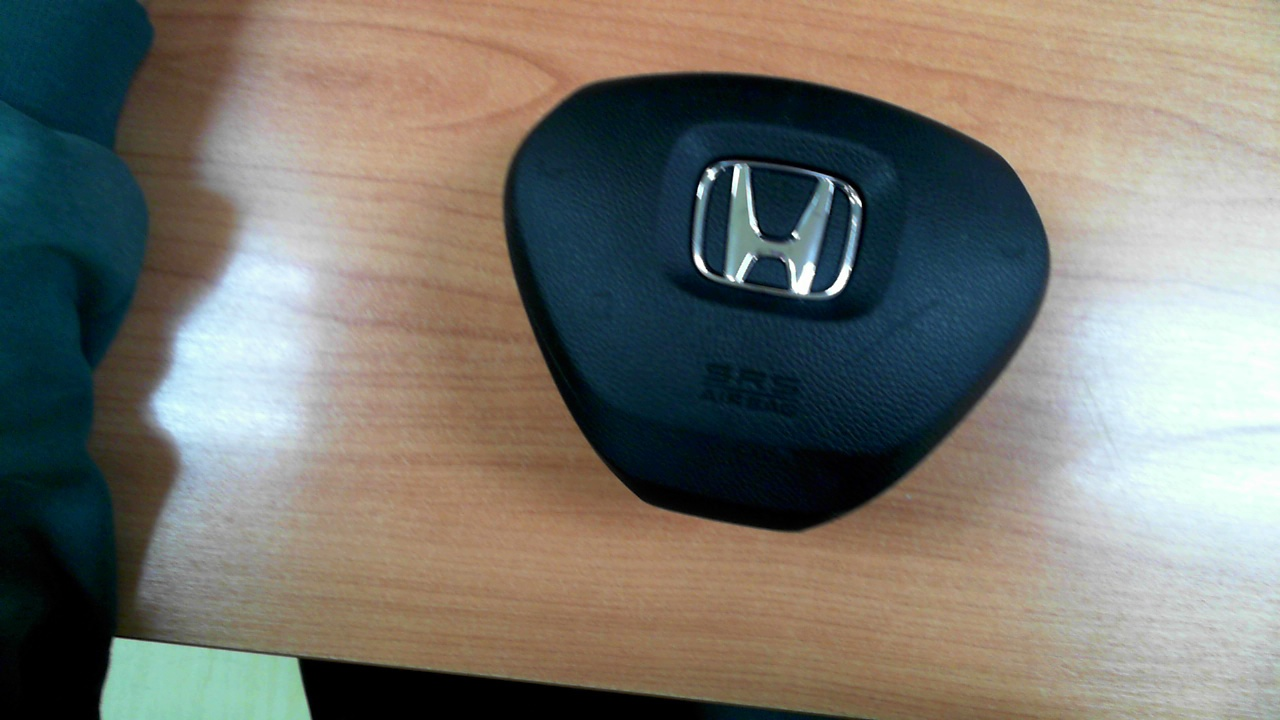Airbag: (502, 72, 1052, 534)
Honda: (693, 159, 863, 296)
